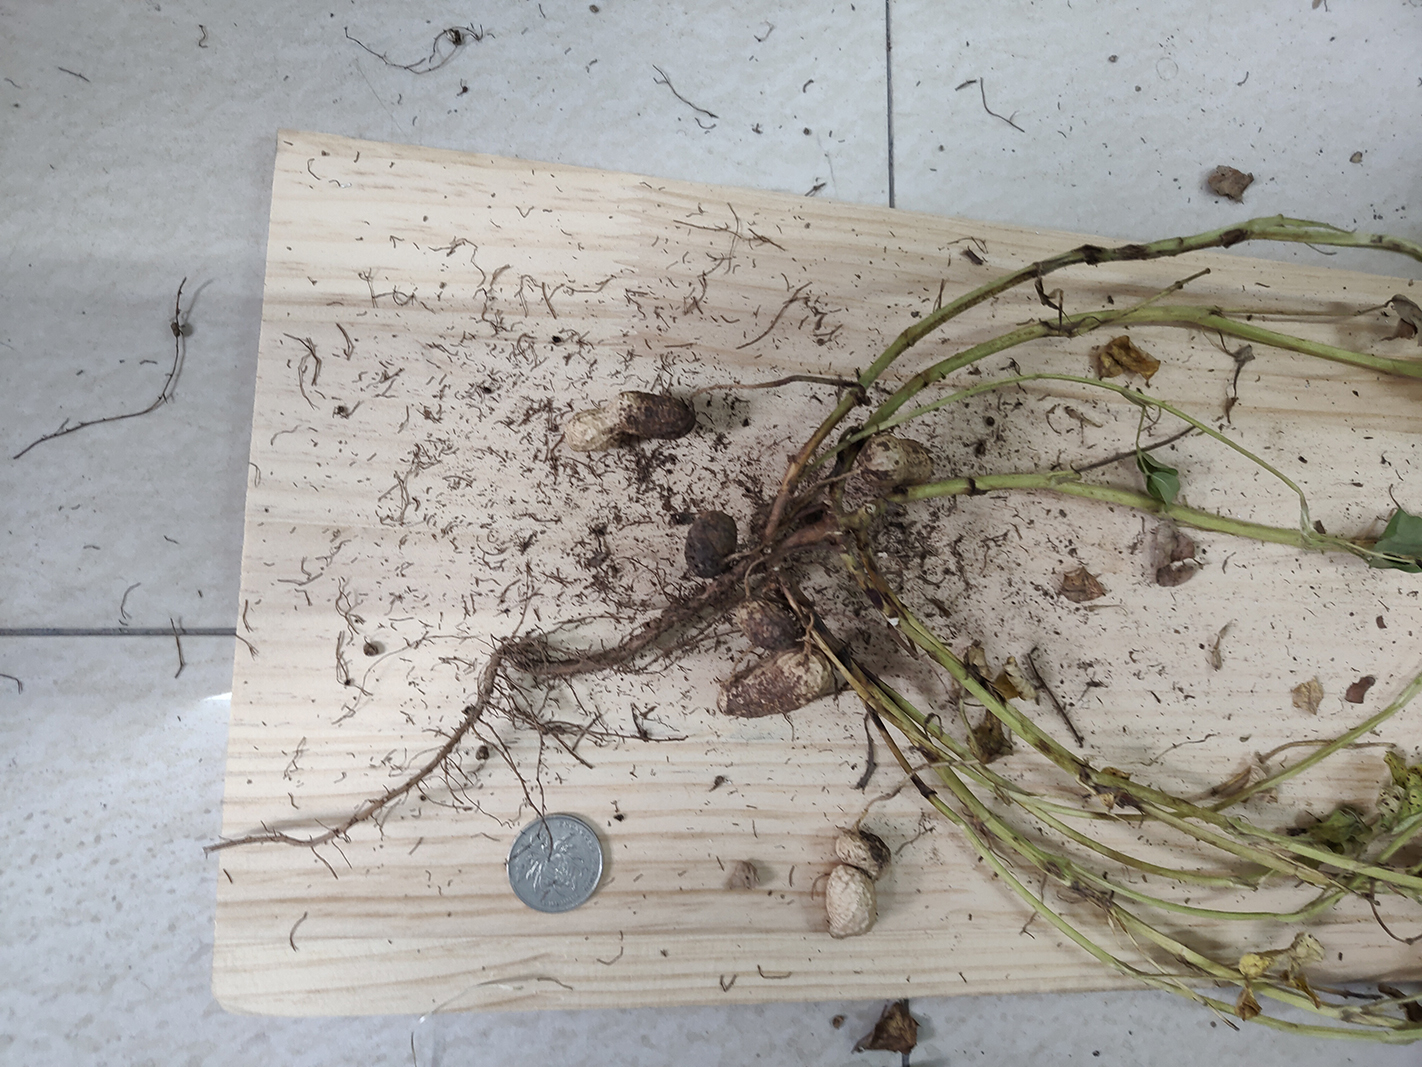h: (822, 831, 885, 940), (861, 436, 935, 490)
l: (716, 648, 834, 717), (566, 390, 694, 449), (685, 510, 738, 579), (735, 601, 801, 651)
